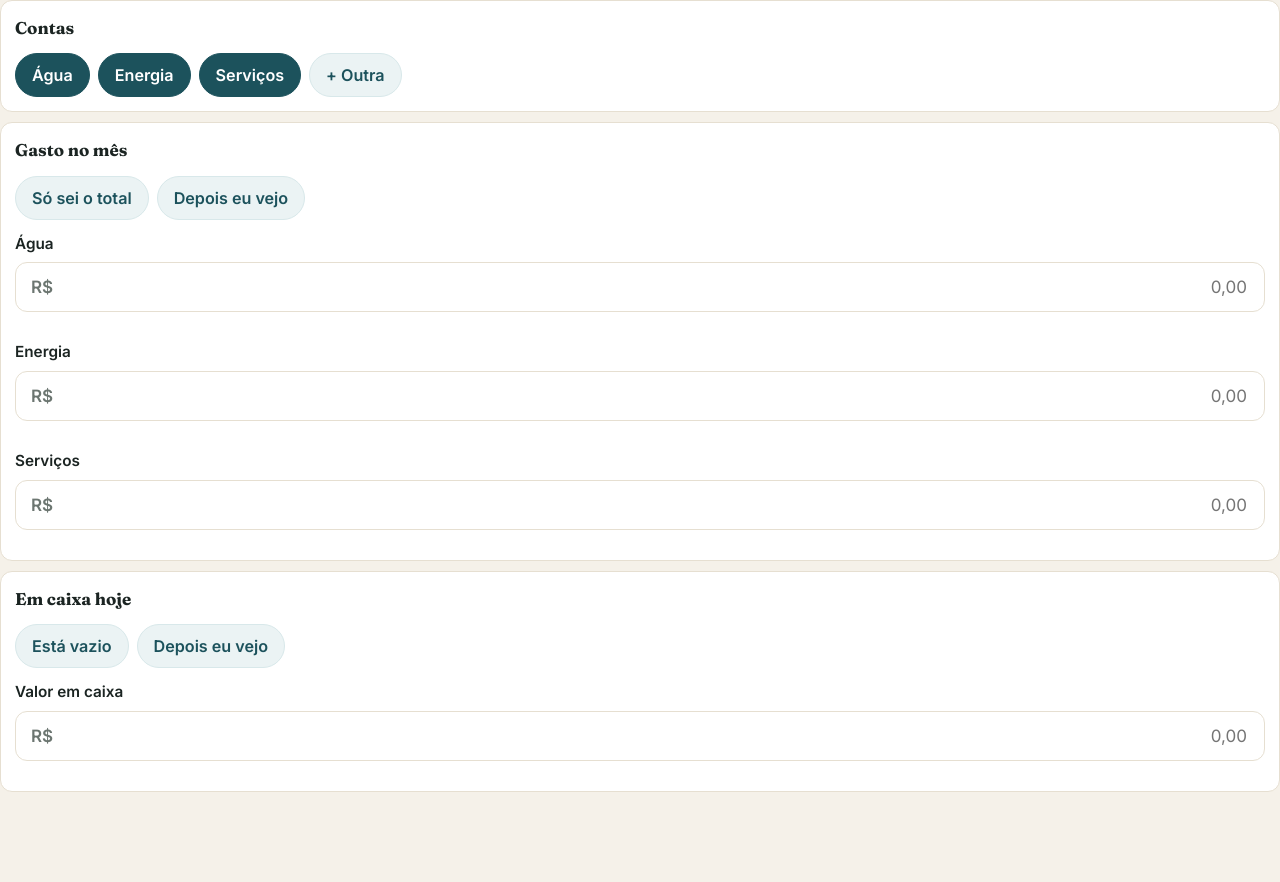
Test case: GroundStep › adds another category
The image size is (1280, 882).
Click the button "+ Outra": (355, 75) [309,53,402,97]
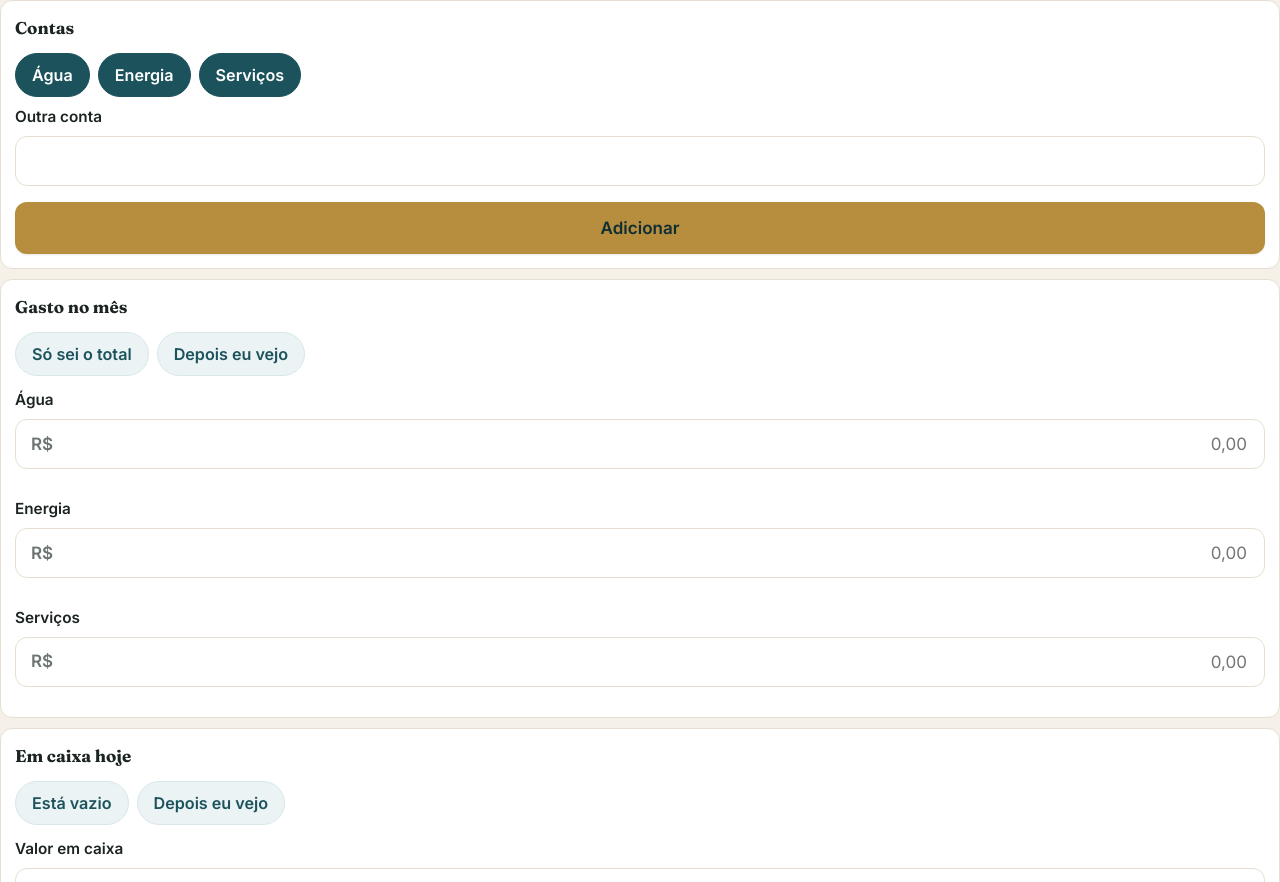
In the field labelled "Outra conta": (640, 161) [15,136,1265,186], type "Limpeza"
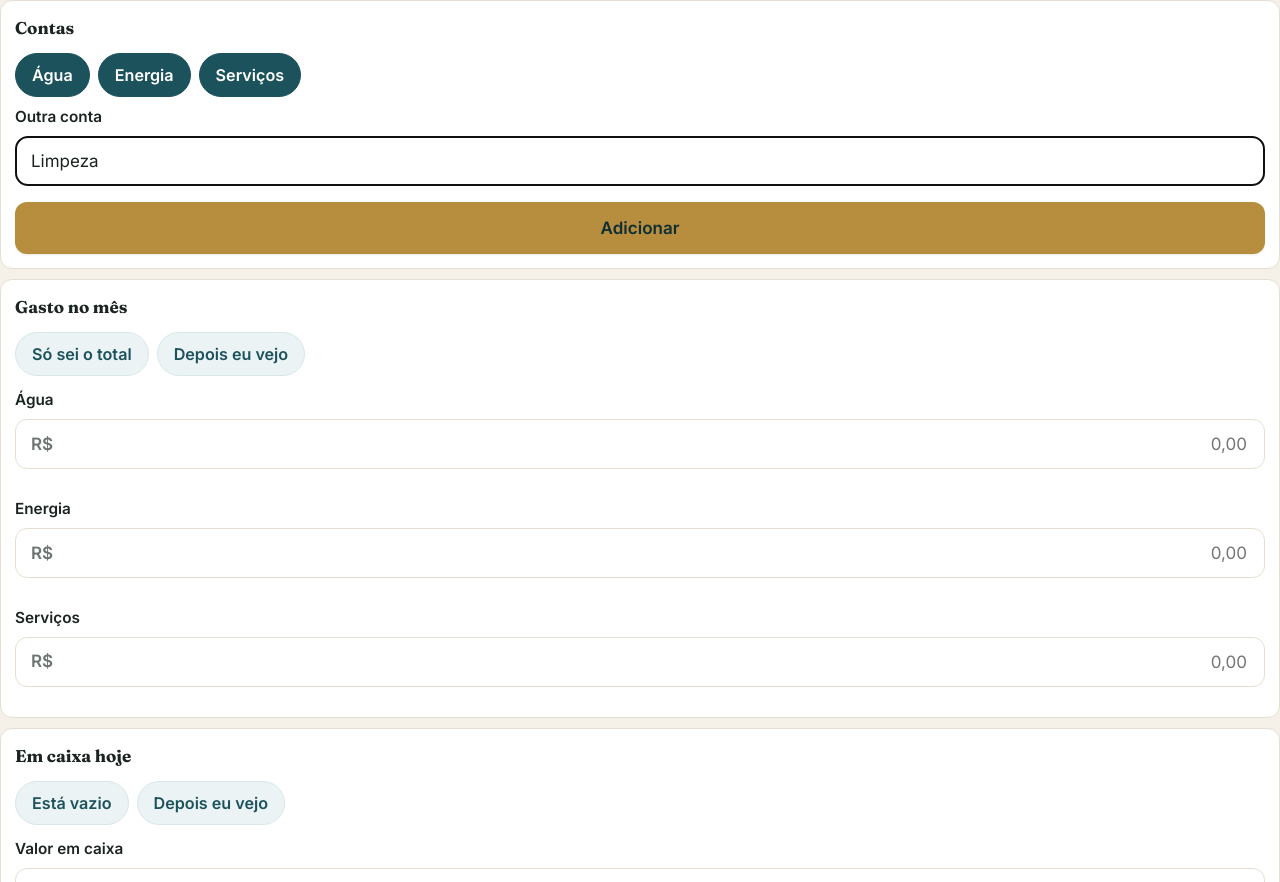
Click the button "Adicionar": (640, 228) [15,202,1265,254]
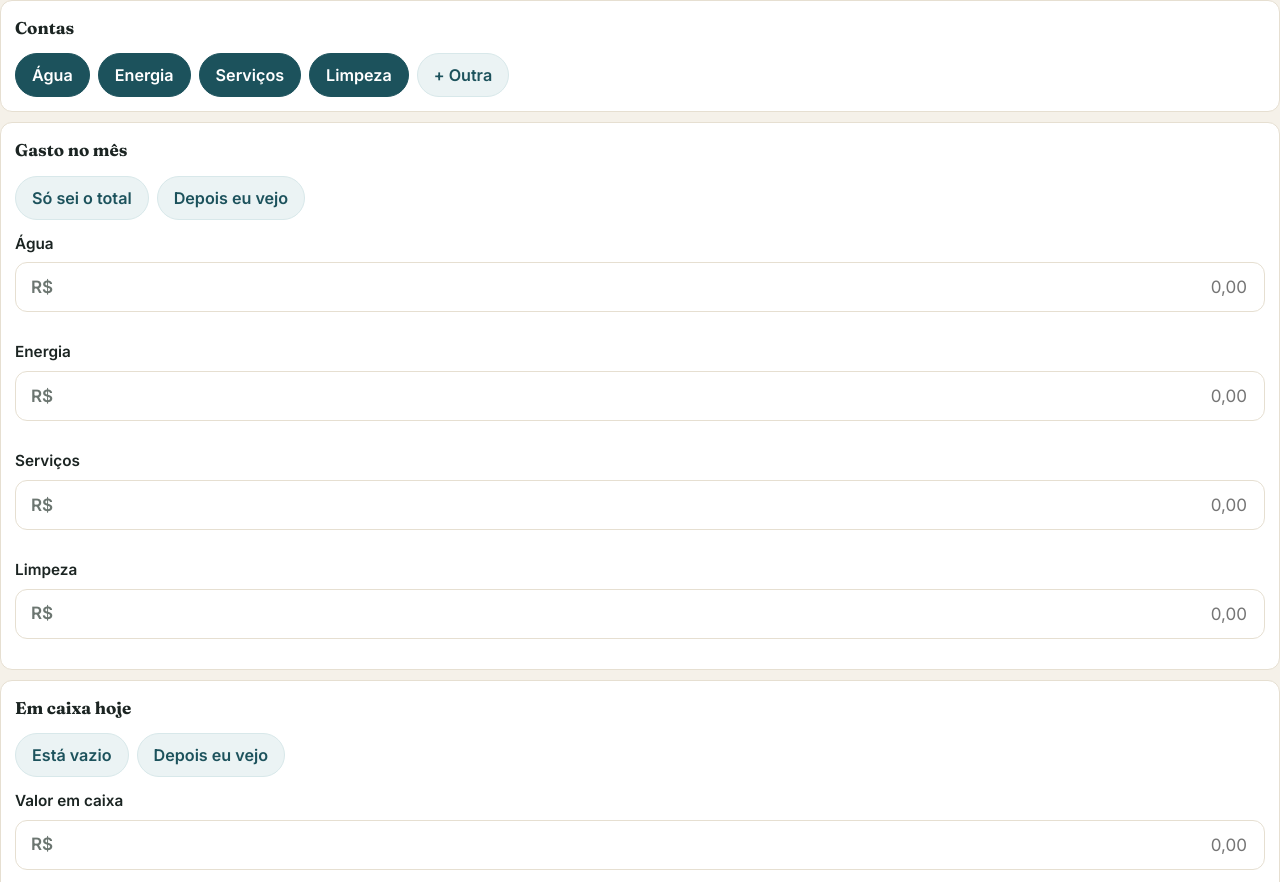
Expected: the text labelled "Outra conta" is gone
